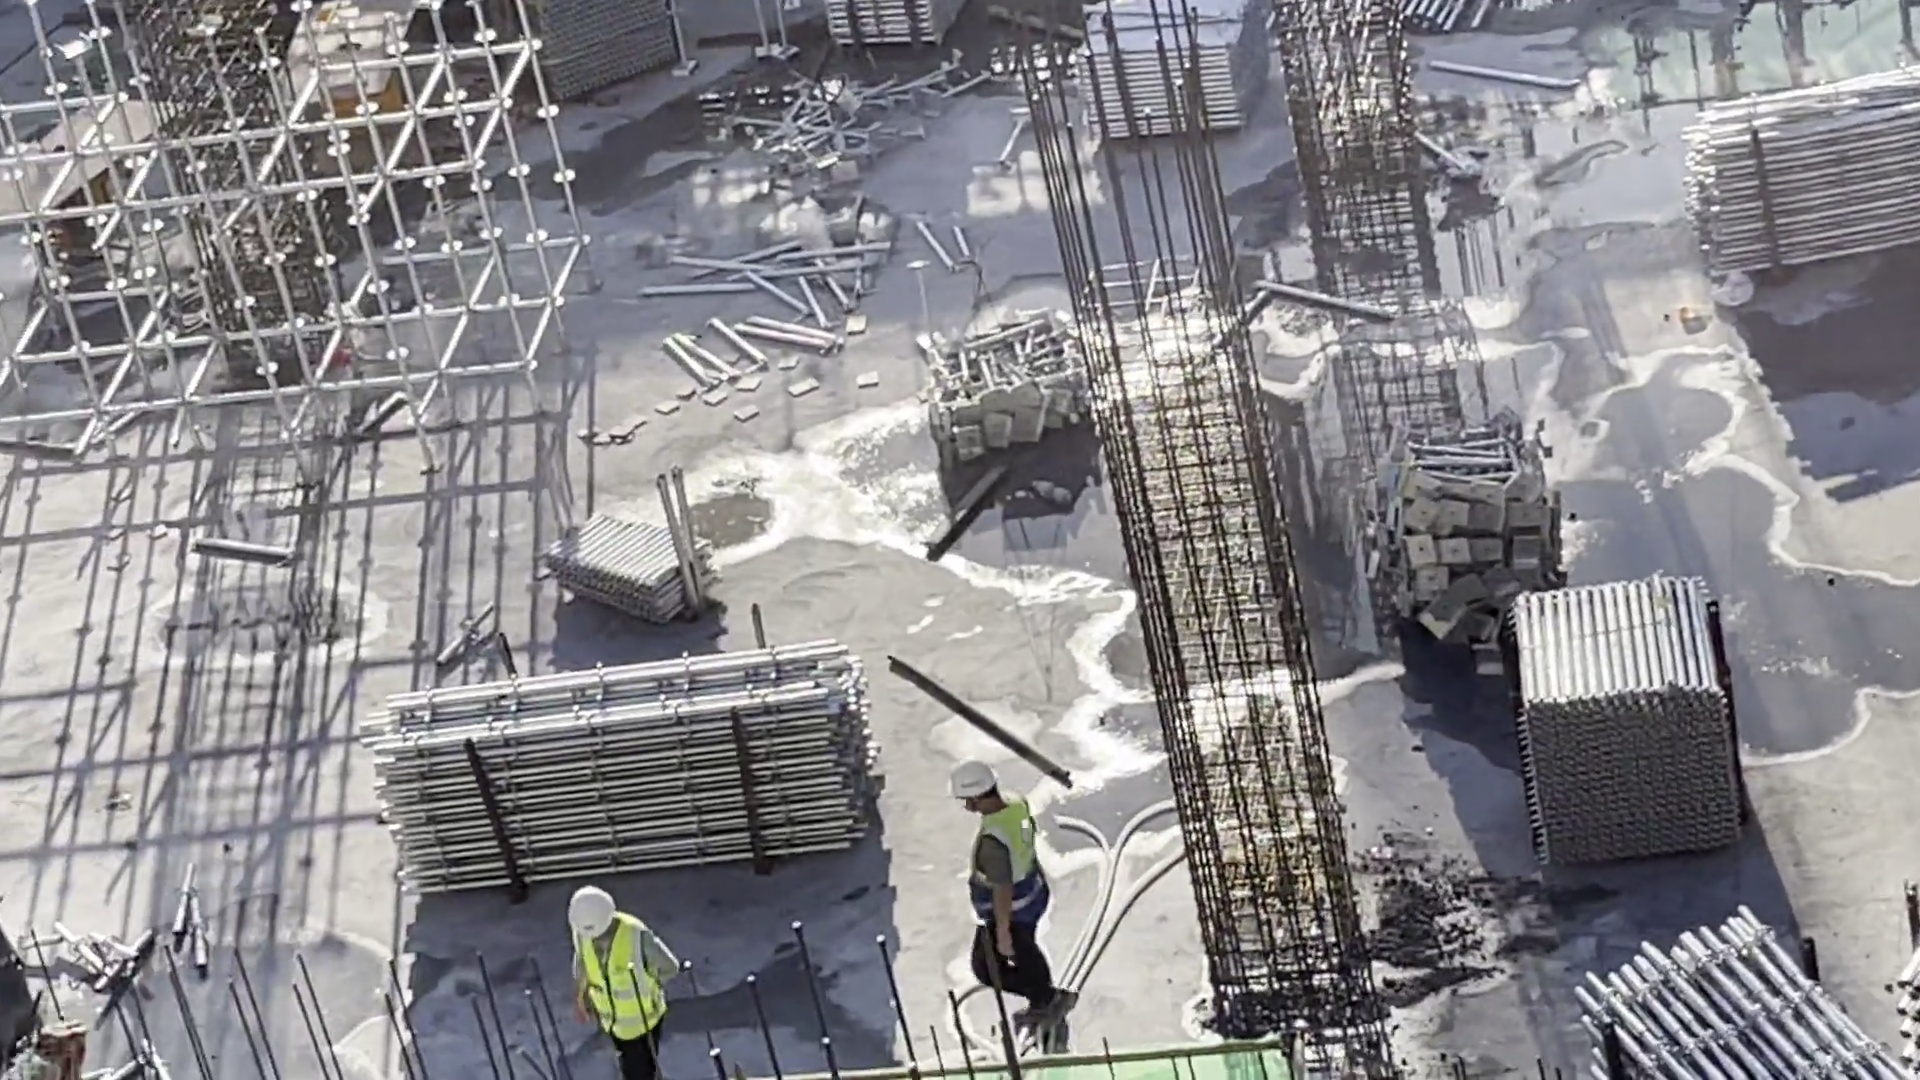cutter: (1, 87, 175, 306), (274, 1, 424, 164)
helmet: (562, 880, 617, 929), (955, 763, 1001, 803)
person: (957, 763, 1071, 1025), (562, 886, 681, 1080)
scaffold: (376, 653, 876, 884), (1516, 593, 1754, 882), (1715, 101, 1920, 255), (1599, 943, 1808, 1080), (1056, 7, 1252, 117), (547, 514, 709, 615), (542, 1, 678, 76), (844, 1, 953, 49)
vest: (981, 810, 1051, 917), (581, 935, 659, 1030)
